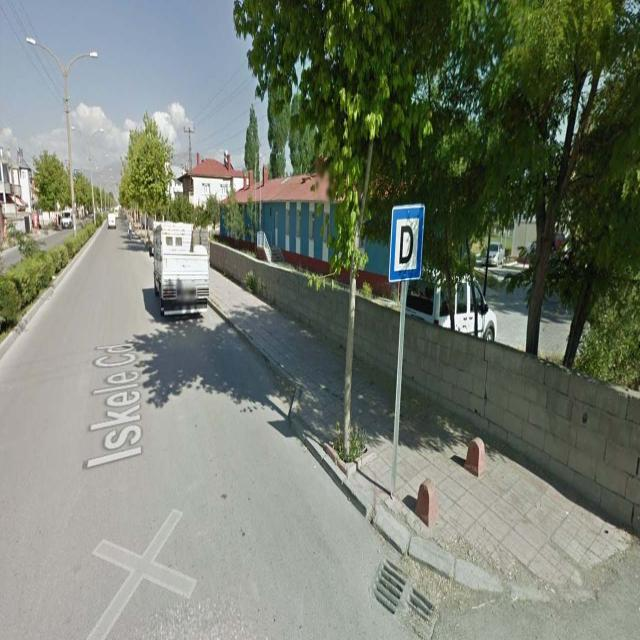durak: (389, 205, 425, 282)
